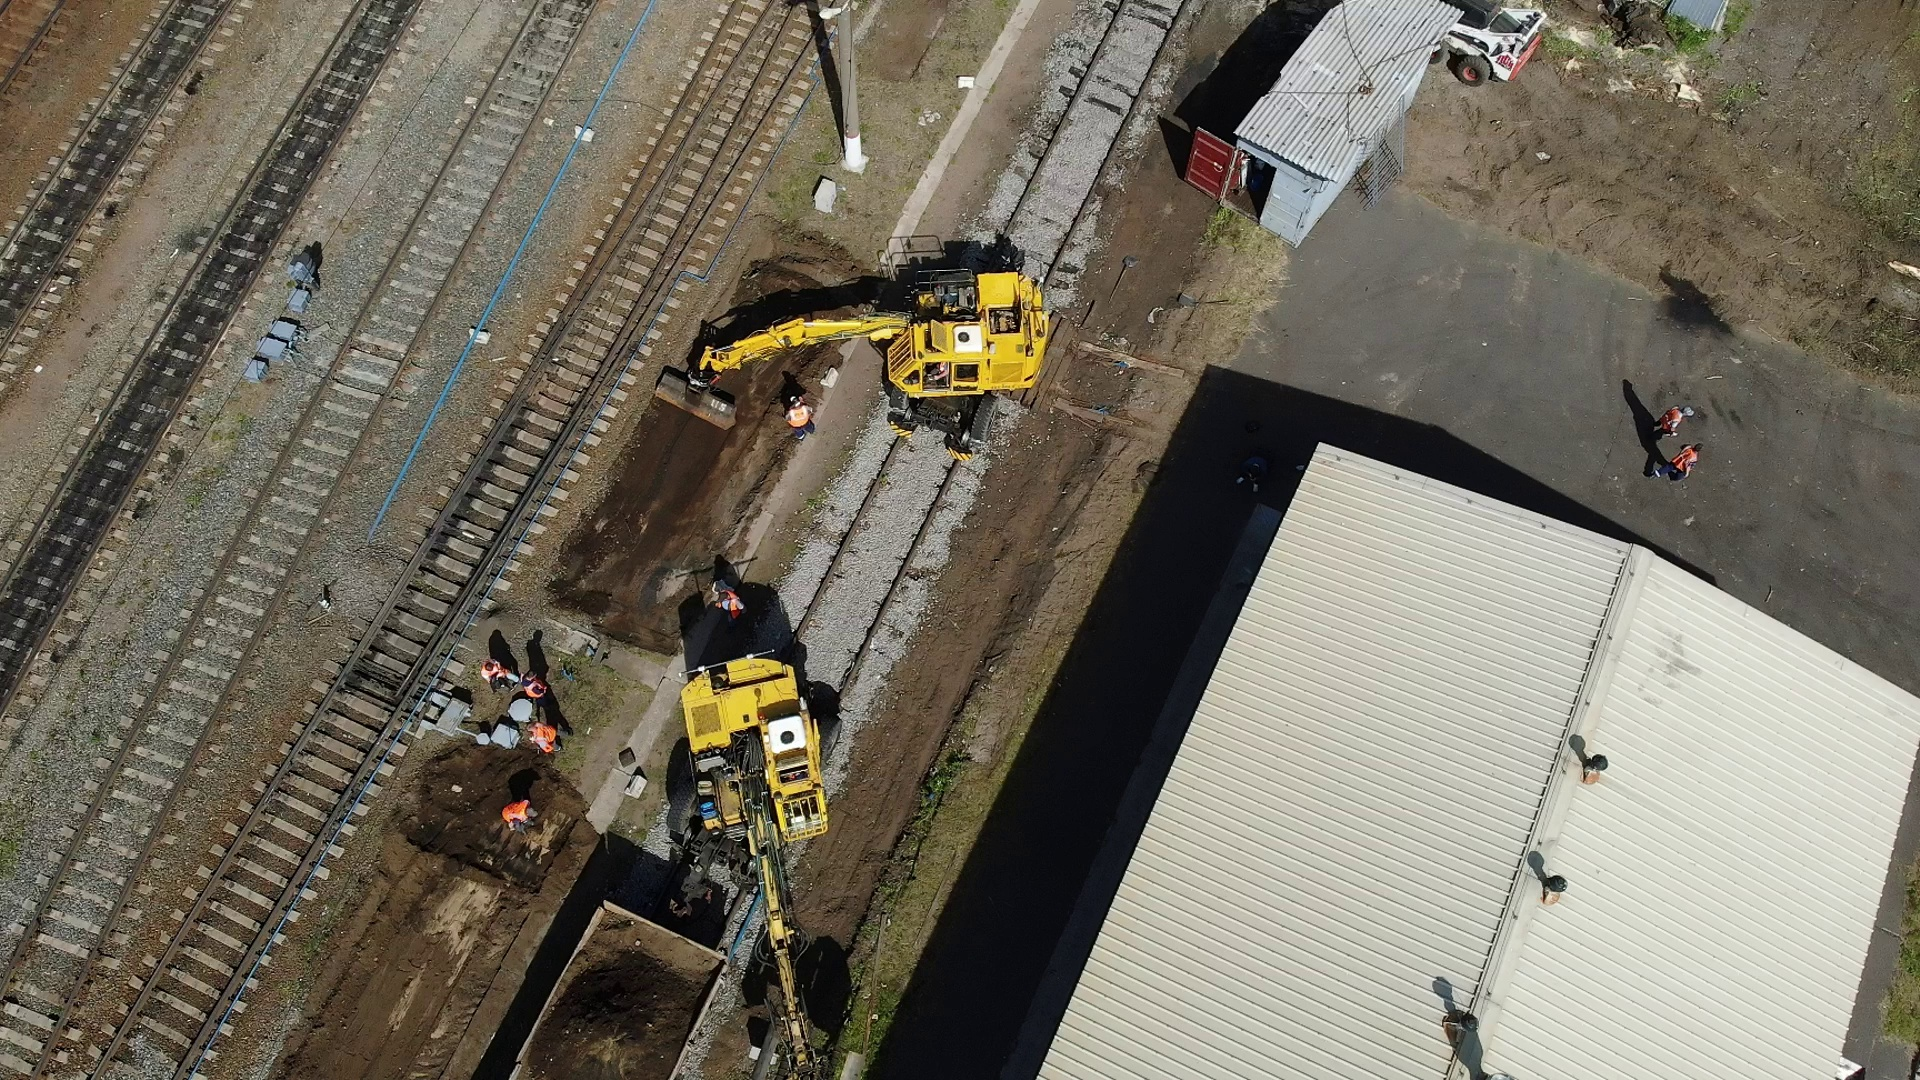kjtv: (836, 270, 1056, 447), (668, 646, 834, 878)
